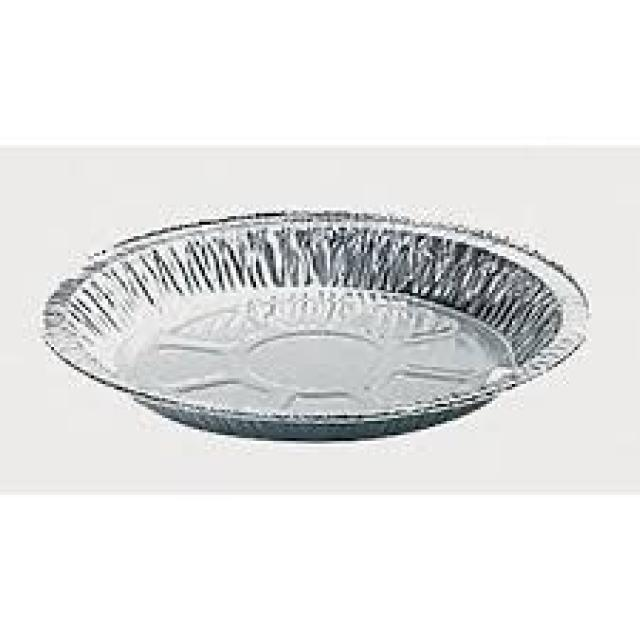kim_loai: (37, 208, 592, 447)
